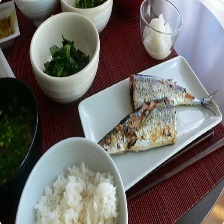rice: (33, 164, 122, 224)
